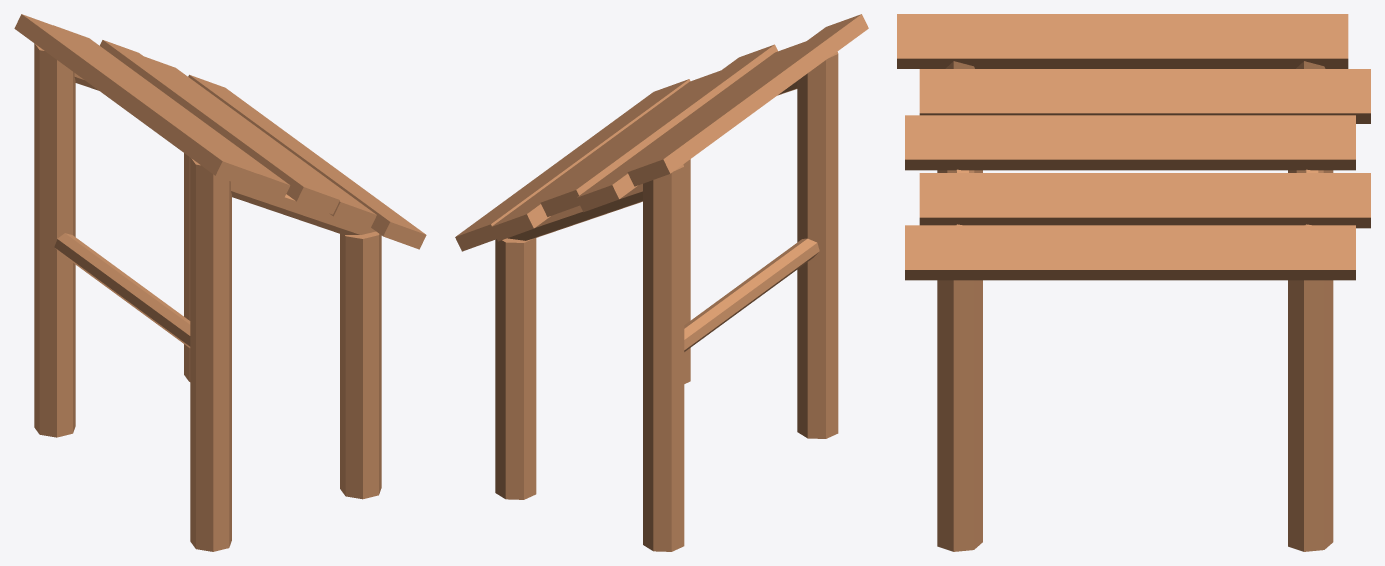
The model's file is table_angled.fbx.
3 renders of one model, left to right at view 1: azimuth 30°, elevation 25°; view 2: azimuth 150°, elevation 25°; view 3: azimuth 270°, elevation 25°, orthographic. The views are drawn at different scales.
Visible parts, largest first — view 1: table; view 2: table; view 3: table.
Boxes of the visible parts, x1=… form: table: x1=14, y1=14, x2=426, y2=551; table: x1=455, y1=14, x2=868, y2=551; table: x1=897, y1=14, x2=1370, y2=551.
Bounding box in the file's own units: 81.12 × 147 × 138.
